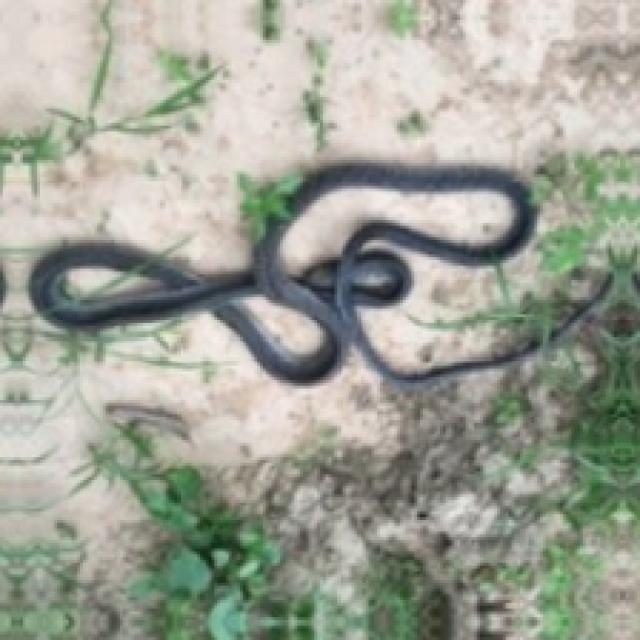king cobra: (29, 160, 609, 383), (280, 186, 511, 274)
